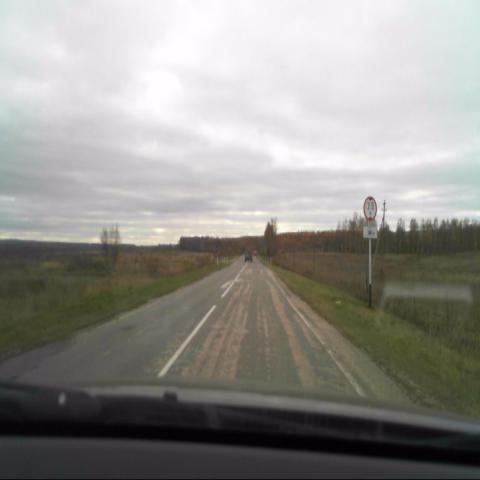3_13: (364, 197, 376, 219)
